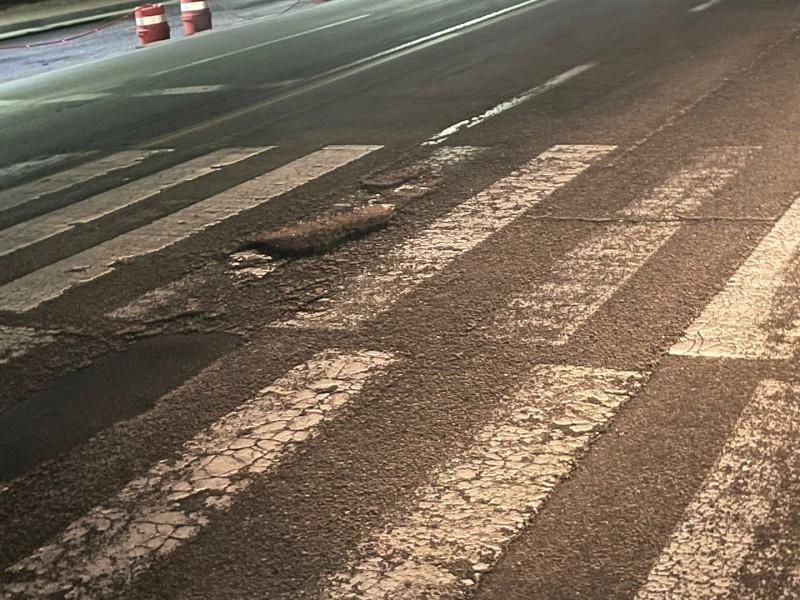pothole: (239, 192, 404, 286)
